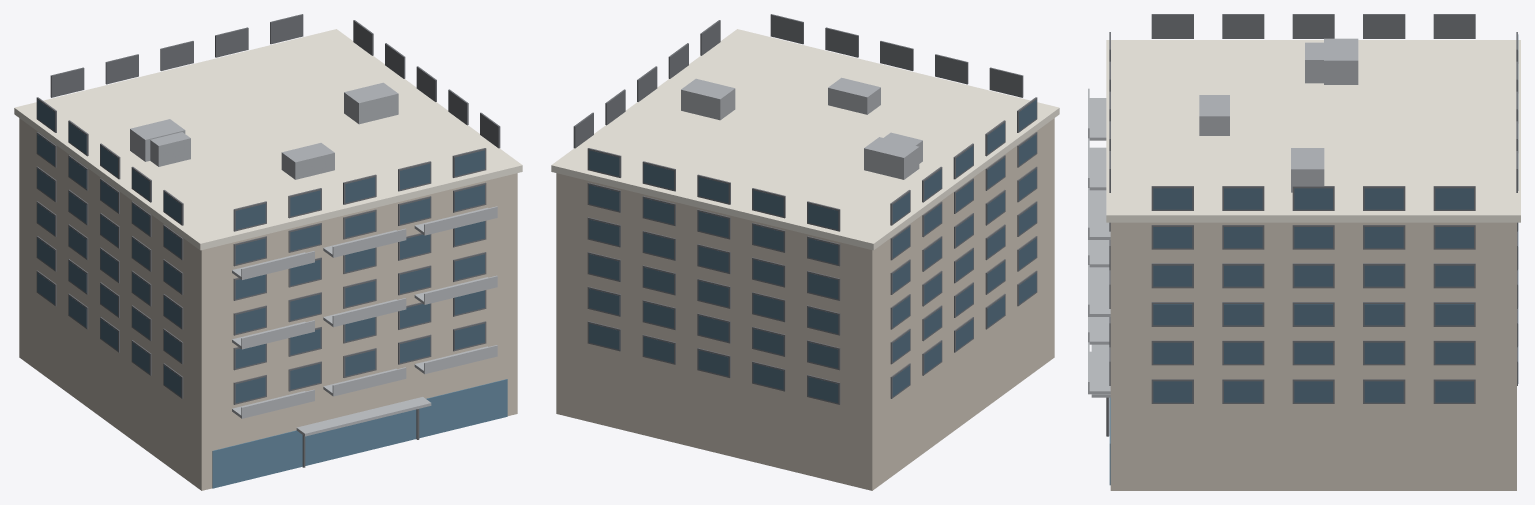
File: apartment.glb
3 renders of one model, left to right at view 1: azimuth 30°, elevation 25°; view 2: azimuth 150°, elevation 25°; view 3: azimuth 270°, elevation 25°, orthographic. The views are drawn at different scales.
Visible parts, largest first — view 1: Cube, Cube.261, Cube.004, Cube.003, Cube.001, Cube.243, Cube.262, Cube.002; view 2: Cube, Cube.261, Cube.004, Cube.003, Cube.262; view 3: Cube, Cube.261, Cube.004, Cube.003, Cube.243, Cube.262.
Part boxes in pixels (x1,y1,x2,y2): Cube: (19,118,517,490); Cube.261: (14,29,522,250); Cube.004: (37,99,484,402); Cube.003: (36,14,500,404); Cube.001: (212,379,507,488); Cube.243: (232,206,497,418); Cube.262: (130,82,398,179); Cube.002: (296,397,431,436); Cube: (556,118,1054,490); Cube.261: (551,29,1059,250); Cube.004: (589,99,1036,402); Cube.003: (573,14,1037,404); Cube.262: (681,77,922,179); Cube: (1110,222,1516,490); Cube.261: (1106,40,1520,222); Cube.004: (1153,34,1518,402); Cube.003: (1109,14,1517,403); Cube.243: (1088,88,1110,394); Cube.262: (1199,38,1358,192).
Size of the model in its own units: 30.6 by 24.82 by 31.96.
